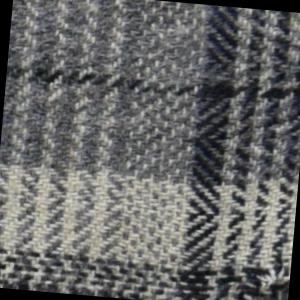Damage: (231, 260, 291, 300)
